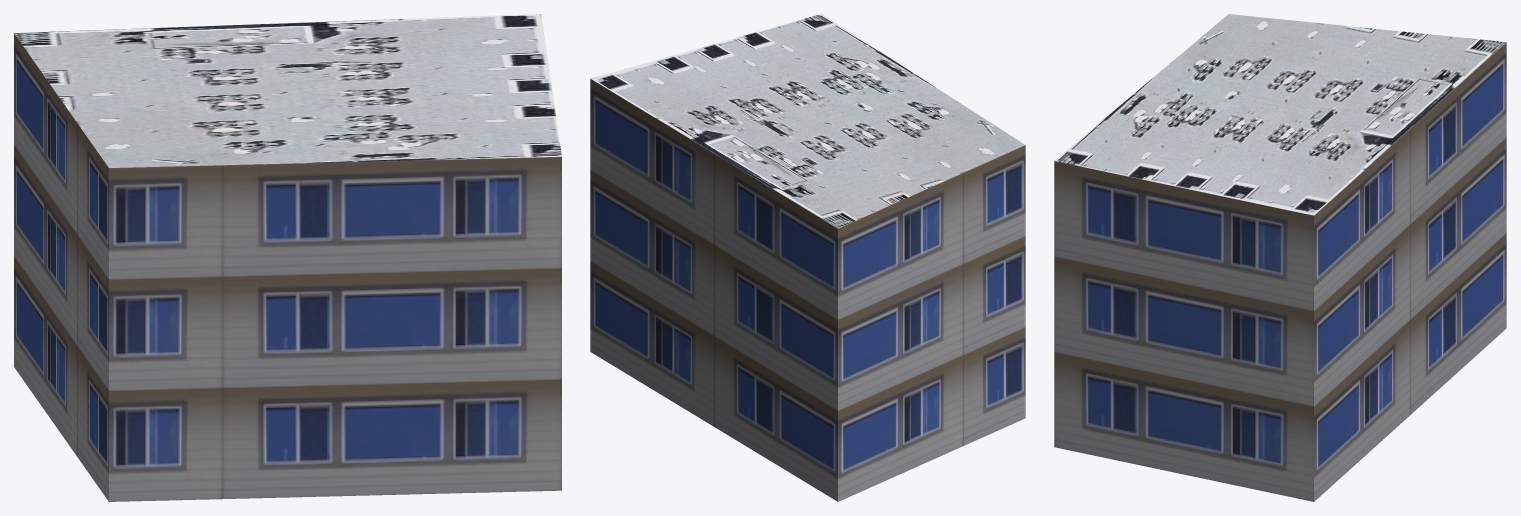
The model's file is ResTex__4665.fbx.
The picture shows the model from 3 angles, left to right: view 1: azimuth 30°, elevation 25°; view 2: azimuth 150°, elevation 25°; view 3: azimuth 270°, elevation 25°; orthographic projection. The views are drawn at different scales.
Visible parts, largest first — view 1: CityEngineMaterial_23_m, CityEngineMaterial_4_m; view 2: CityEngineMaterial_23_m, CityEngineMaterial_4_m; view 3: CityEngineMaterial_23_m, CityEngineMaterial_4_m.
Part boxes in pixels (bbox=[...]): CityEngineMaterial_23_m: bbox=[14, 33, 561, 501]; CityEngineMaterial_4_m: bbox=[14, 14, 561, 167]; CityEngineMaterial_23_m: bbox=[590, 79, 1025, 501]; CityEngineMaterial_4_m: bbox=[590, 14, 1024, 228]; CityEngineMaterial_23_m: bbox=[1054, 42, 1506, 501]; CityEngineMaterial_4_m: bbox=[1055, 14, 1506, 215].
Bounding box in the file's own units: 13.6 × 9 × 12.89.
Materials: 2 (2 with a texture image).
